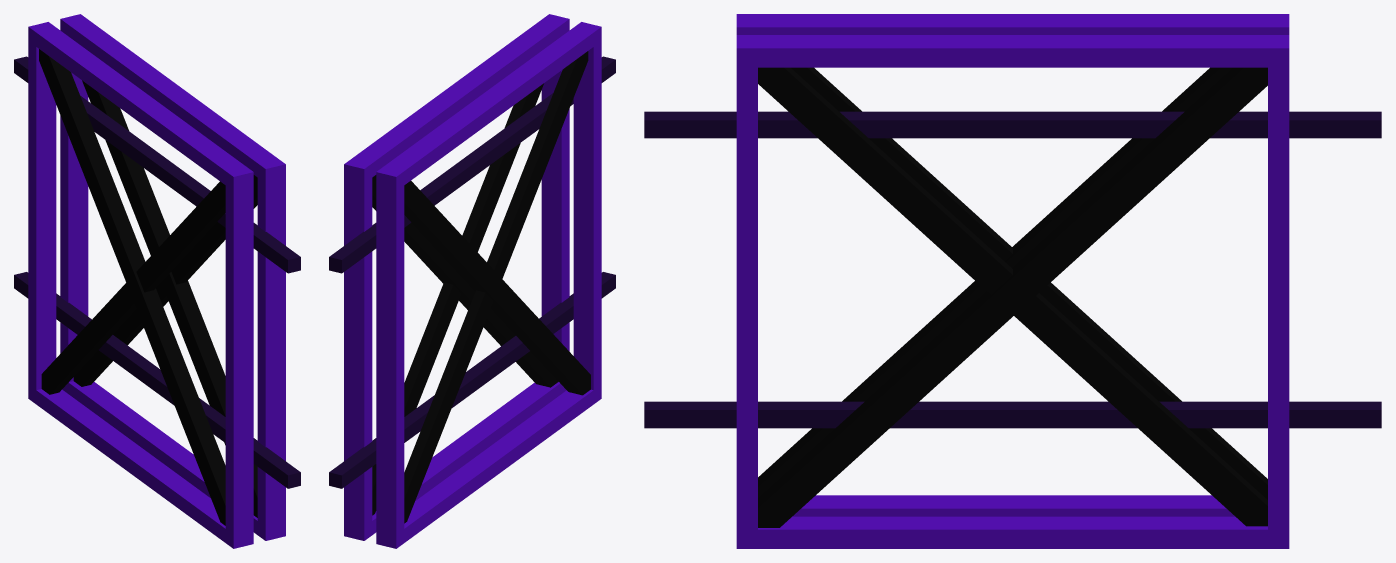
File: Obstacle1.fbx
The picture shows the model from 3 angles, left to right: view 1: azimuth 30°, elevation 25°; view 2: azimuth 150°, elevation 25°; view 3: azimuth 270°, elevation 25°; orthographic projection. The views are drawn at different scales.
Visible parts, largest first — view 1: Cube.010; view 2: Cube.010; view 3: Cube.010.
Part boxes in pixels (x1=…): Cube.010: x1=14, y1=14, x2=300, y2=548; Cube.010: x1=329, y1=14, x2=615, y2=548; Cube.010: x1=644, y1=14, x2=1381, y2=548.
Bounding box in the file's own units: 204 × 1387 × 1851.
